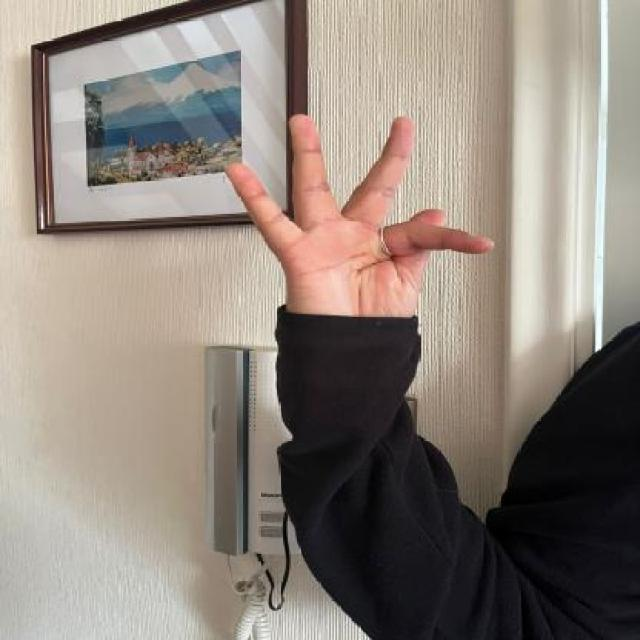F: (222, 104, 503, 341)
